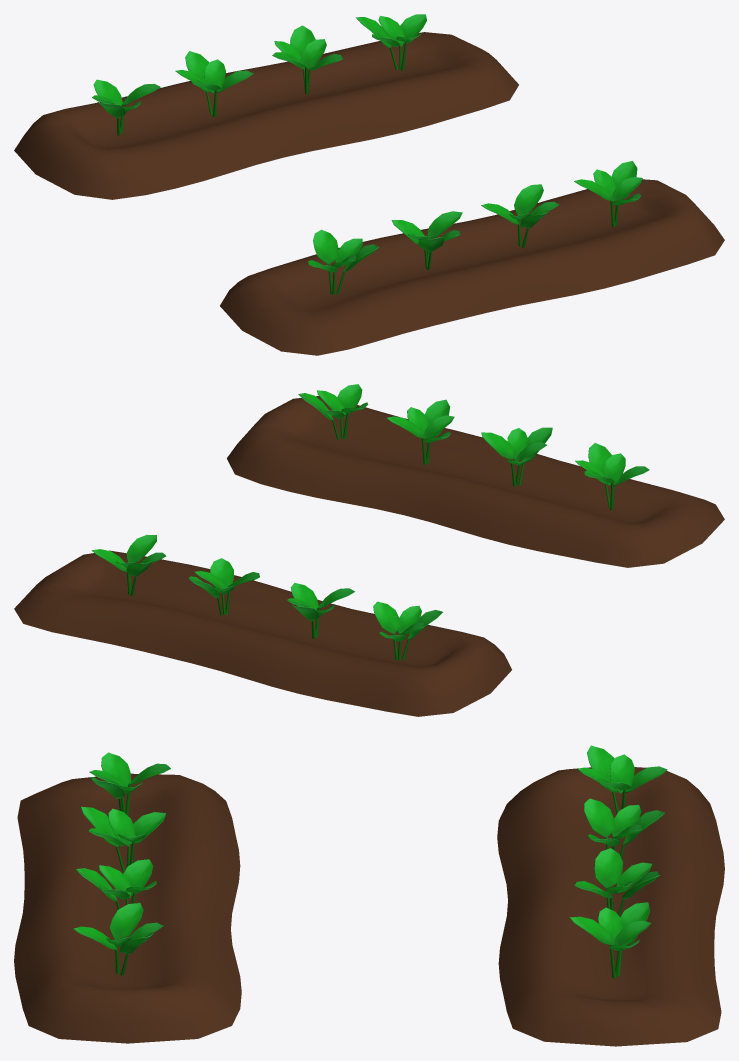
Rendered from Turnip2.fbx.
The picture shows the model from 3 angles, top to bottom: view 1: azimuth 30°, elevation 25°; view 2: azimuth 150°, elevation 25°; view 3: azimuth 270°, elevation 25°; orthographic projection. The views are drawn at different scales.
Visible parts, largest first — view 1: 2; view 2: 2; view 3: 2.
Part boxes in pixels (x1,y1,x2,y2): 2: (14, 14, 724, 355); 2: (14, 384, 724, 716); 2: (14, 745, 724, 1046).
Size of the model in its own units: 272 by 35.12 by 310.
